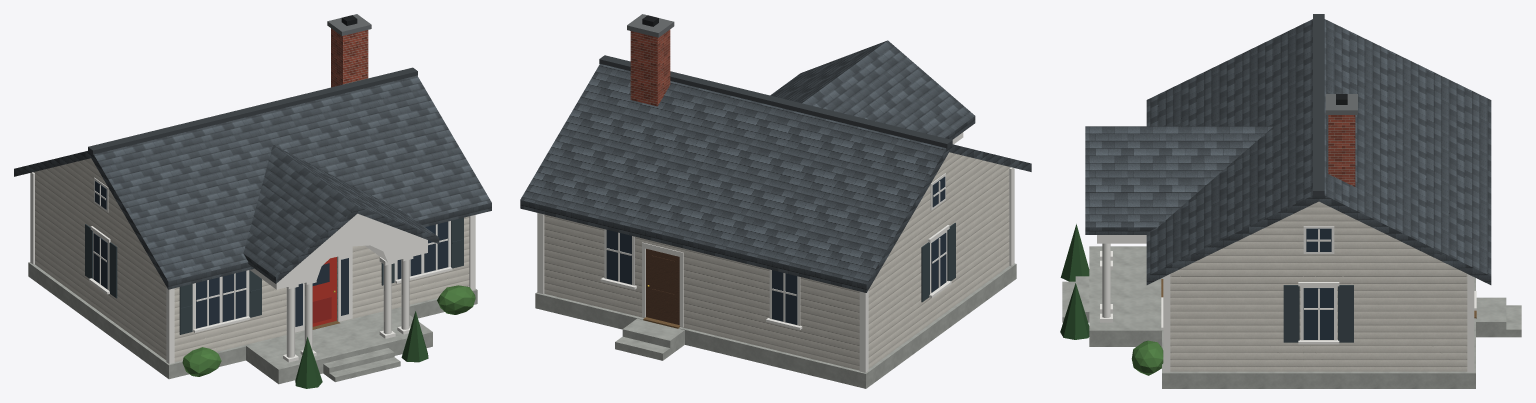
The model's file is ClassicHouse.textured.glb.
3 views of the same model, side by side, from view 1: azimuth 30°, elevation 25°; view 2: azimuth 150°, elevation 25°; view 3: azimuth 270°, elevation 25° (orthographic). The views are drawn at different scales.
Visible parts, largest first — view 1: RoofGroup__shingles__default, House__siding__none, House__Color__none, House__concrete__none, RoofGroup__Color__default, RoofGroup__siding__default, RoofGroup__brick__default, FrontDoor, FrontDoor__Color__none; view 2: RoofGroup__shingles__default, House__siding__none, House__concrete__none, House__Color__none, RoofGroup__Color__default, RoofGroup__siding__default, RoofGroup__brick__default, BackDoor, BackDoor__wood_backdoor__none; view 3: RoofGroup__shingles__default, House__siding__none, House__concrete__none, House__Color__none, RoofGroup__siding__default, RoofGroup__Color__default, RoofGroup__brick__default.
Part boxes in pixels (x1,y1,x2,y2): RoofGroup__shingles__default: (14,75,491,289); House__siding__none: (33,172,469,361); House__Color__none: (30,172,475,388); House__concrete__none: (28,262,477,384); RoofGroup__Color__default: (88,14,427,289); RoofGroup__siding__default: (34,158,147,254); RoofGroup__brick__default: (331,28,368,87); FrontDoor: (312,257,336,326); FrontDoor__Color__none: (312,263,335,323); RoofGroup__shingles__default: (520,40,1031,292); House__siding__none: (544,167,1010,370); House__concrete__none: (535,263,1016,388); House__Color__none: (537,167,1014,372); RoofGroup__Color__default: (599,14,963,210); RoofGroup__siding__default: (888,152,1009,256); RoofGroup__brick__default: (630,29,670,106); BackDoor: (646,249,679,324); BackDoor__wood_backdoor__none: (651,255,674,319); RoofGroup__shingles__default: (1085,19,1491,284); House__siding__none: (1170,269,1467,371); House__concrete__none: (1062,246,1521,388); House__Color__none: (1060,224,1476,375); RoofGroup__siding__default: (1180,201,1457,269); RoofGroup__Color__default: (1097,14,1357,253); RoofGroup__brick__default: (1328,115,1355,186).
Size of the model in its own units: 49.27 by 34.59 by 54.26.
Materials: 26 (24 with a texture image).
